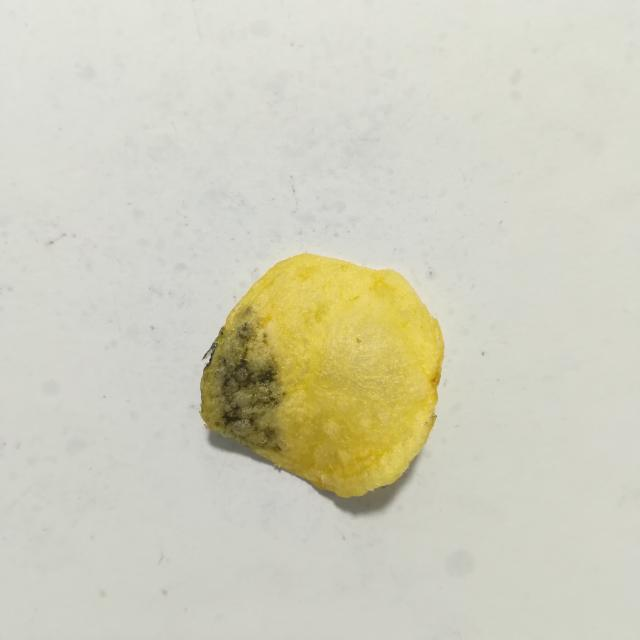chip: (201, 254, 444, 497)
semi-damaged: (201, 308, 283, 450)
